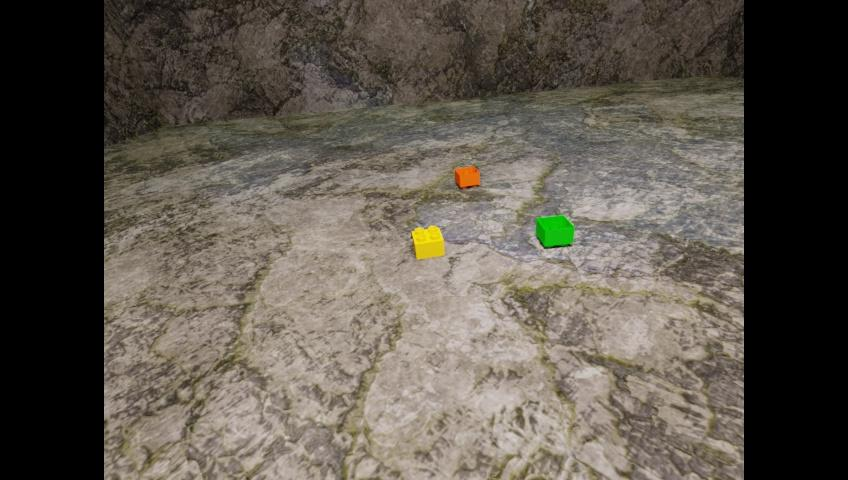2x2_green: (535, 214, 574, 247)
2x2_orange: (454, 166, 478, 188)
2x2_yellow: (412, 225, 443, 259)
